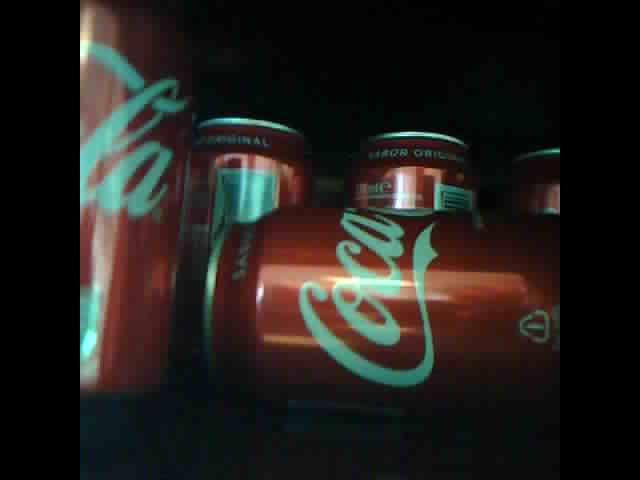coca cola: (203, 196, 561, 395), (81, 1, 206, 410), (199, 107, 309, 229), (344, 120, 478, 220), (504, 144, 560, 219)
